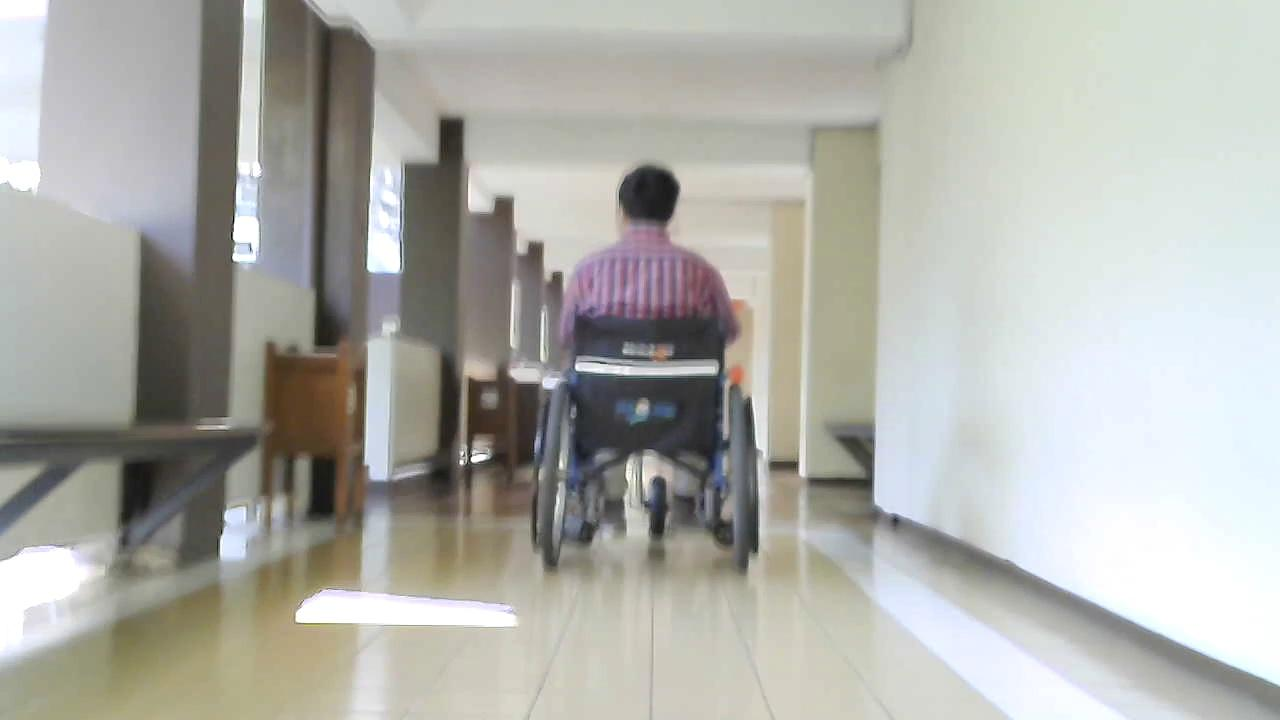person: (543, 163, 749, 553)
wheelchair: (518, 292, 781, 579)
